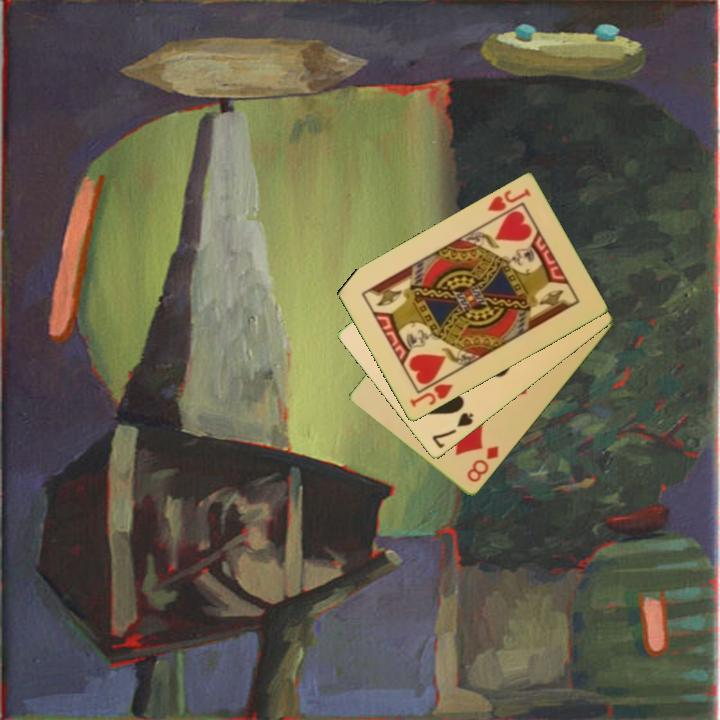7s: (429, 409, 477, 452)
8d: (463, 442, 502, 486)
Jh: (406, 380, 456, 411), (484, 185, 533, 215)
